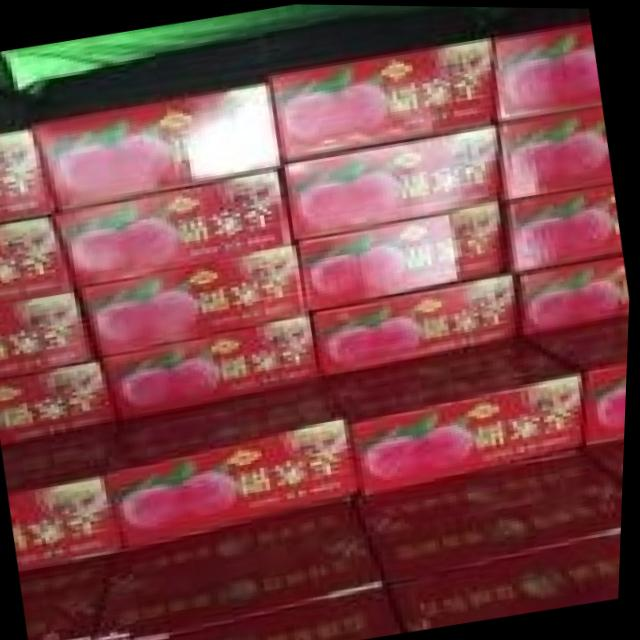box: (105, 372, 360, 546), (317, 329, 589, 490), (100, 492, 393, 640), (354, 439, 626, 579), (33, 77, 282, 211), (52, 162, 291, 289), (266, 35, 500, 162), (78, 240, 309, 361), (283, 116, 500, 239), (293, 198, 509, 313), (99, 310, 319, 417), (393, 527, 625, 627), (319, 271, 521, 370), (102, 579, 420, 640), (8, 418, 128, 564), (513, 307, 631, 441), (497, 98, 614, 199), (505, 177, 623, 274), (494, 24, 602, 123), (0, 357, 113, 444), (516, 249, 632, 331), (26, 544, 123, 640), (0, 291, 97, 377), (0, 214, 75, 302), (0, 126, 55, 220), (579, 430, 628, 479)
